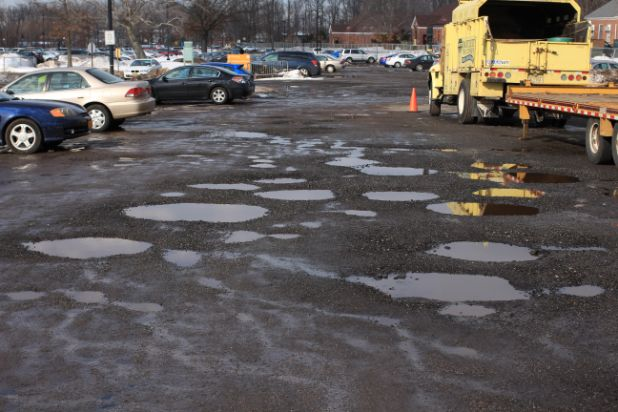pothole: (340, 267, 535, 321), (117, 193, 270, 227), (19, 224, 156, 259), (425, 237, 543, 265), (422, 198, 541, 221), (356, 187, 443, 203), (253, 186, 337, 201), (362, 165, 439, 179), (188, 180, 262, 192), (555, 280, 609, 296)
